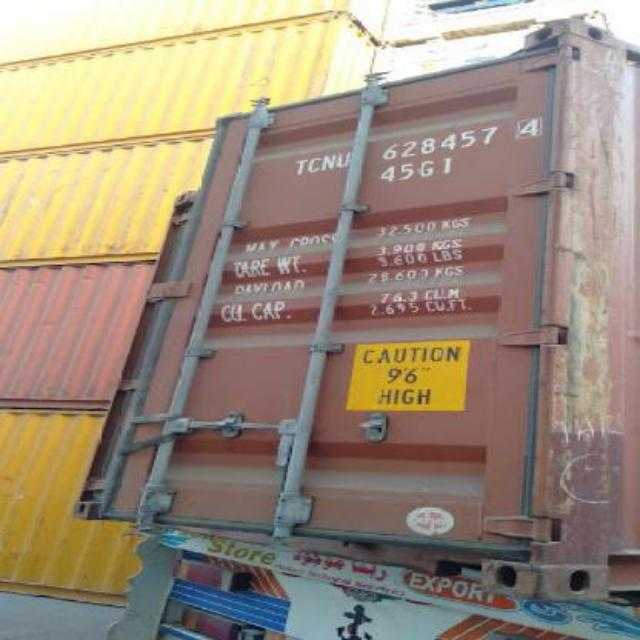2: (400, 140, 416, 158)
4: (514, 113, 546, 145), (440, 132, 456, 154)
5: (461, 128, 482, 154)
6: (380, 140, 400, 163)
7: (474, 125, 504, 149)
8: (420, 136, 440, 154)
C: (304, 152, 322, 178)
N: (321, 150, 334, 172)
T: (286, 153, 310, 180)
U: (334, 150, 354, 176)
